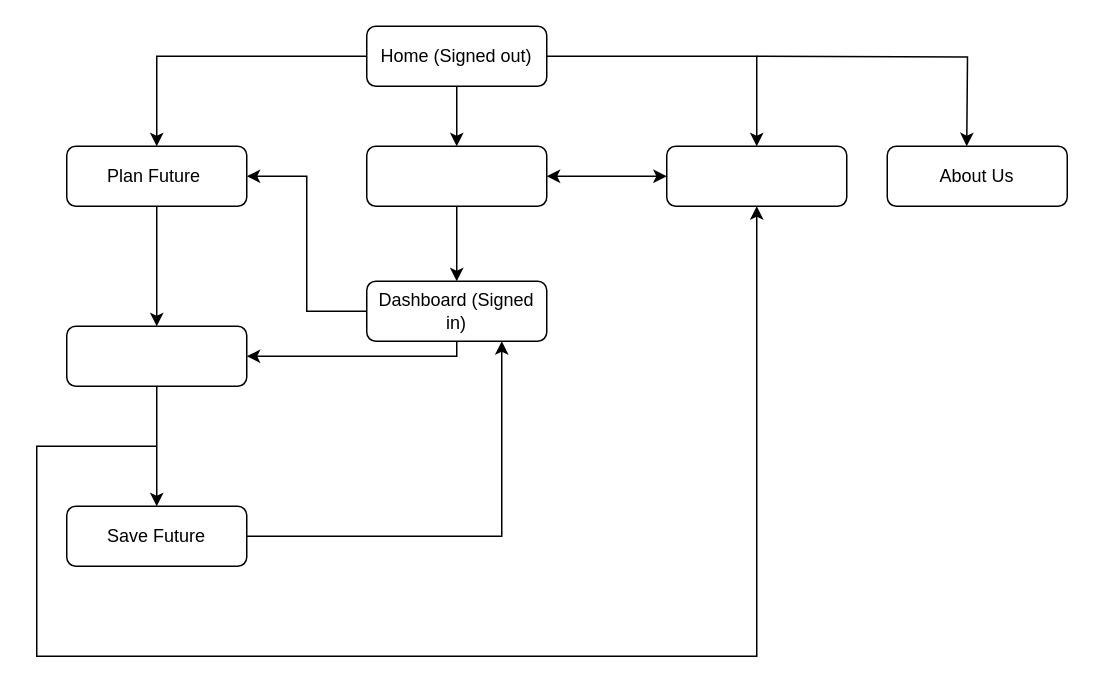
Image size: 1094x695. Some labels were removed from this diagram. The shapes that lost their labels are listed below. From the top down, each one's box as (x1, y1, x2, y2) in pixels, then its label:
(365, 145, 547, 206): Login
(665, 145, 847, 206): Sign Up
(65, 325, 247, 386): Results
